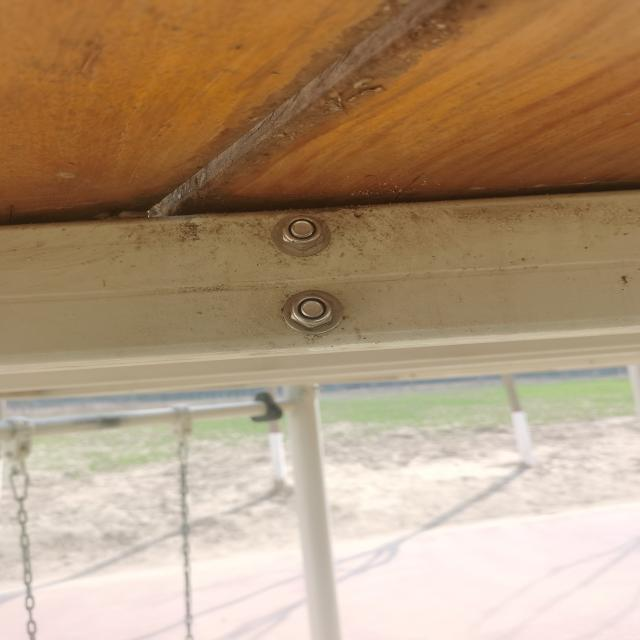bolt nut: (288, 290, 336, 332), (278, 213, 326, 252)
